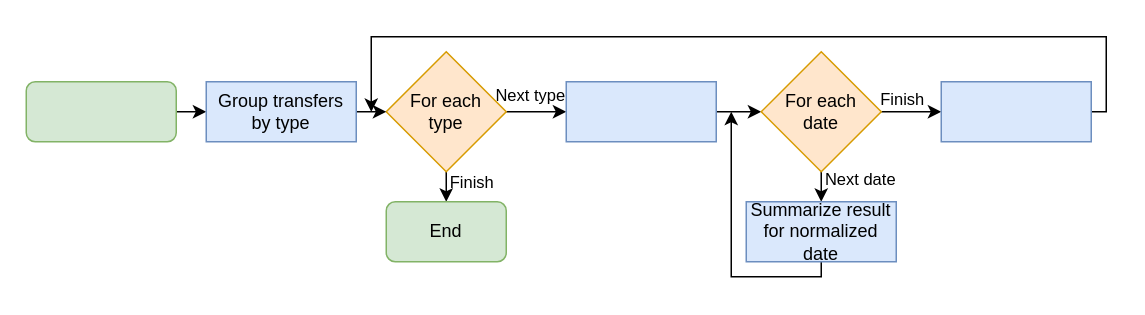
This 1145x315 diagram has some shape labels left out. Each missing label, with the box of its shape:
Group transfers by normalized date: (565, 80, 716, 142)
Pad resulting list: (940, 80, 1091, 142)
Start: (25, 80, 176, 142)
